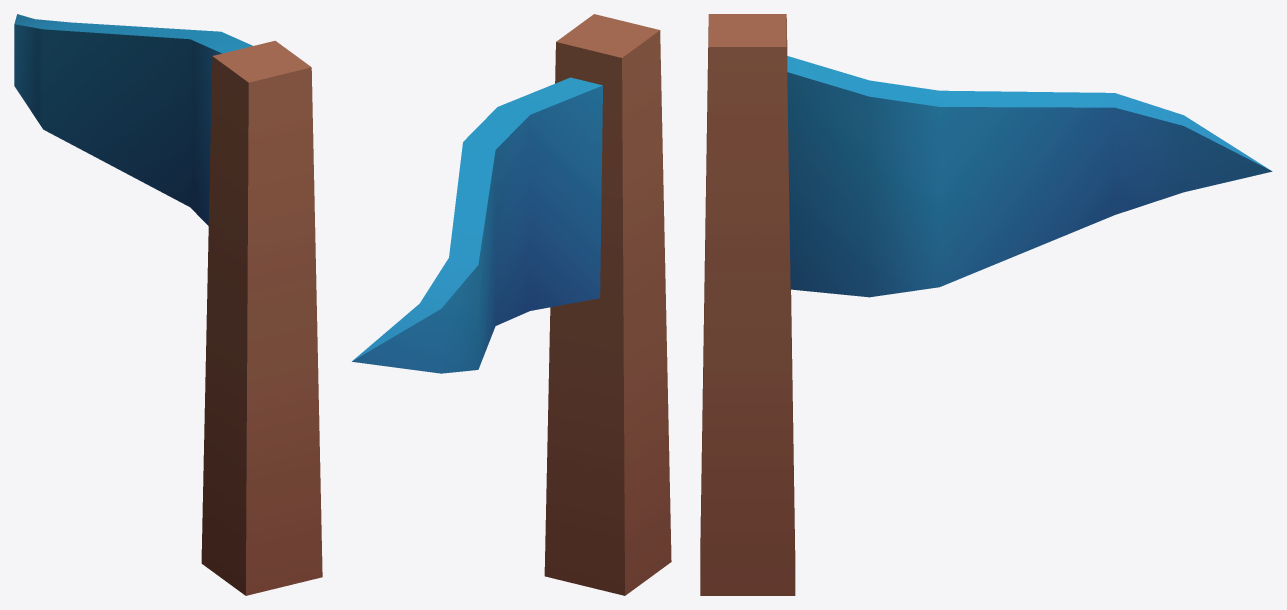
The model's file is kay-bandeira-azul.gltf.
3 views of the same model, side by side, from view 1: azimuth 30°, elevation 25°; view 2: azimuth 150°, elevation 25°; view 3: azimuth 270°, elevation 25° (orthographic). The views are drawn at different scales.
Parts seen in each view (by area): view 1: flag_blue; view 2: flag_blue; view 3: flag_blue.
Boxes of the visible parts, x1=… form: flag_blue: x1=14, y1=14, x2=322, y2=595; flag_blue: x1=352, y1=14, x2=671, y2=595; flag_blue: x1=700, y1=14, x2=1272, y2=595.
Size of the model in its own units: 0.275 by 1.39 by 1.32.
1 material, 1 textured.
